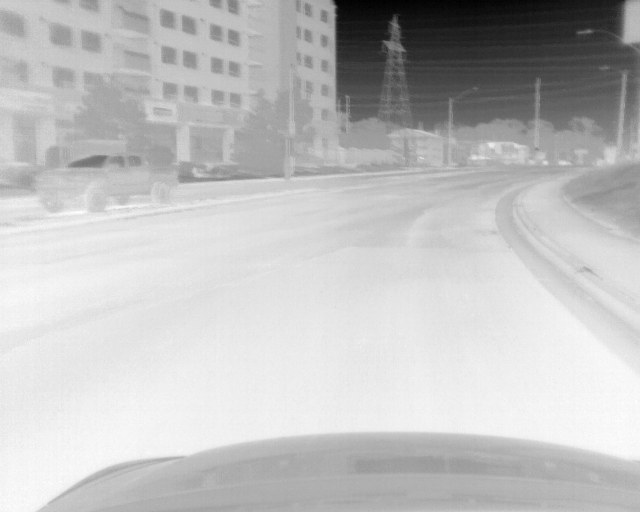car: (33, 152, 181, 215)
